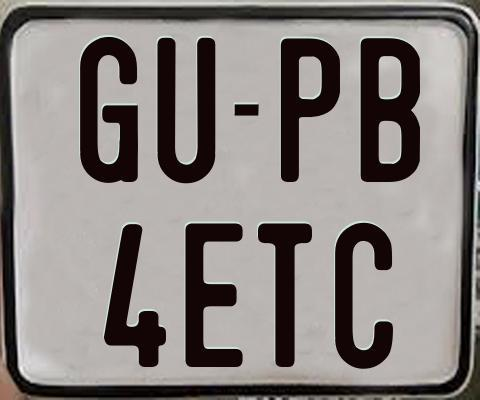4: (101, 222, 164, 369)
B: (361, 38, 424, 183)
C: (334, 220, 397, 368)
E: (184, 222, 247, 366)
G: (78, 34, 142, 183)
P: (278, 35, 341, 181)
T: (255, 222, 310, 367)
U: (154, 35, 214, 181)
